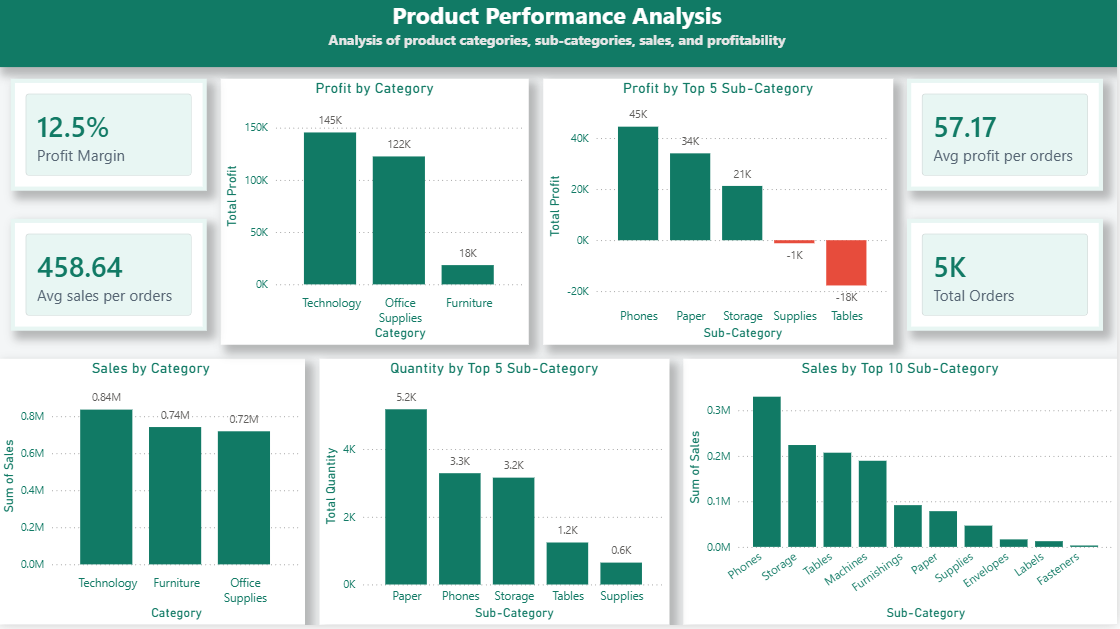

The dashboard page shown, as its layout file describes it:
{"tool":"powerbi","page":{"name":"Product Analysis","canvas":[1280,720],"ordinal":1},"visuals":[{"type":"textbox","box":[0,0,1280,82.1],"z":0},{"type":"clusteredColumnChart","title":"Sales by Category","fields":{"Category":["Sample - Superstore.Category"],"Y":["Sum(Sample - Superstore.Sales)"]},"box":[0,416,352,304],"z":1000},{"type":"clusteredColumnChart","title":"Profit by Category","fields":{"Y":["Sample - Superstore.Total Profit"],"Category":["Sample - Superstore.Category"]},"box":[256,96,352,304],"z":2000},{"type":"clusteredColumnChart","title":"Profit by Top 5 Sub-Category","fields":{"Category":["Sample - Superstore.Sub-Category"],"Y":["Sample - Superstore.Total Profit"]},"box":[624,96,400,304],"z":3000},{"type":"clusteredColumnChart","title":"Sales by Top 10 Sub-Category","fields":{"Category":["Sample - Superstore.Sub-Category"],"Y":["Sum(Sample - Superstore.Sales)"]},"box":[784,416,496,304],"z":4000},{"type":"clusteredColumnChart","title":"Quantity by Top 5 Sub-Category","fields":{"Y":["Sample - Superstore.Total Quantity"],"Category":["Sample - Superstore.Sub-Category"]},"box":[368,416,400,304],"z":5000},{"type":"cardVisual","fields":{"Data":["Sample - Superstore.Profit Margin"]},"box":[16,96,224,128],"z":6000},{"type":"cardVisual","fields":{"Data":["Sample - Superstore.Avg profit per orders"]},"box":[1040,96,224,128],"z":7000},{"type":"cardVisual","fields":{"Data":["Sample - Superstore.Avg sales per orders"]},"box":[16,256,224,128],"z":8000},{"type":"cardVisual","fields":{"Data":["Sample - Superstore.Total Orders"]},"box":[1040,256,224,128],"z":9000}]}

Visuals, with their boxes in screenshot pixels (x1, y1, x2, y2), scaled from the page's 1280x720 canvas onto the 1120x629 screenshot:
textbox: box=[0, 0, 1119, 72]
"Sales by Category" clusteredColumnChart: box=[0, 363, 308, 628]
"Profit by Category" clusteredColumnChart: box=[224, 84, 532, 349]
"Profit by Top 5 Sub-Category" clusteredColumnChart: box=[546, 84, 896, 349]
"Sales by Top 10 Sub-Category" clusteredColumnChart: box=[686, 363, 1119, 628]
"Quantity by Top 5 Sub-Category" clusteredColumnChart: box=[322, 363, 672, 628]
cardVisual - Sample - Superstore.Profit Margin: box=[14, 84, 210, 196]
cardVisual - Sample - Superstore.Avg profit per orders: box=[910, 84, 1106, 196]
cardVisual - Sample - Superstore.Avg sales per orders: box=[14, 224, 210, 335]
cardVisual - Sample - Superstore.Total Orders: box=[910, 224, 1106, 335]
